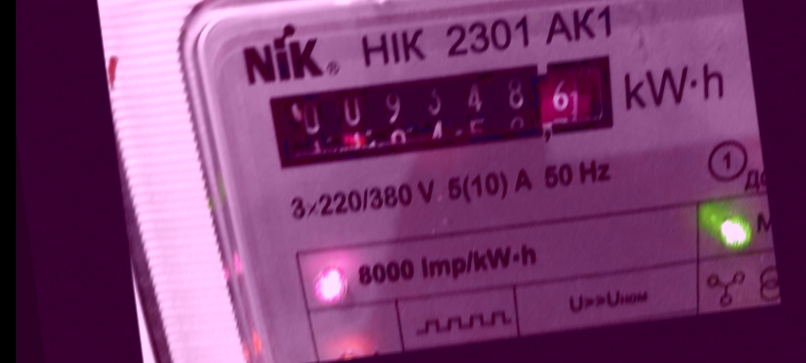0: (297, 97, 322, 135), (338, 90, 363, 128)
3: (419, 81, 445, 115)
4: (459, 76, 485, 115)
6: (547, 74, 573, 111)
8: (502, 72, 526, 109)
9: (381, 86, 403, 122)
screen: (243, 36, 638, 186)
